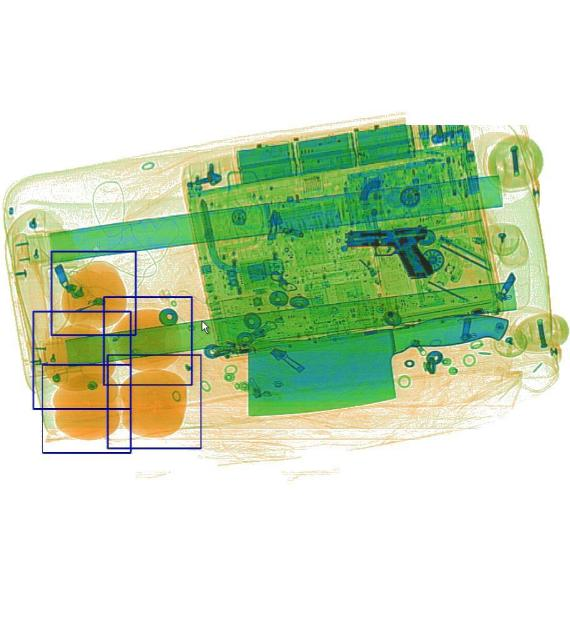Gun: (342, 224, 436, 282)
Knife: (239, 306, 514, 418)
